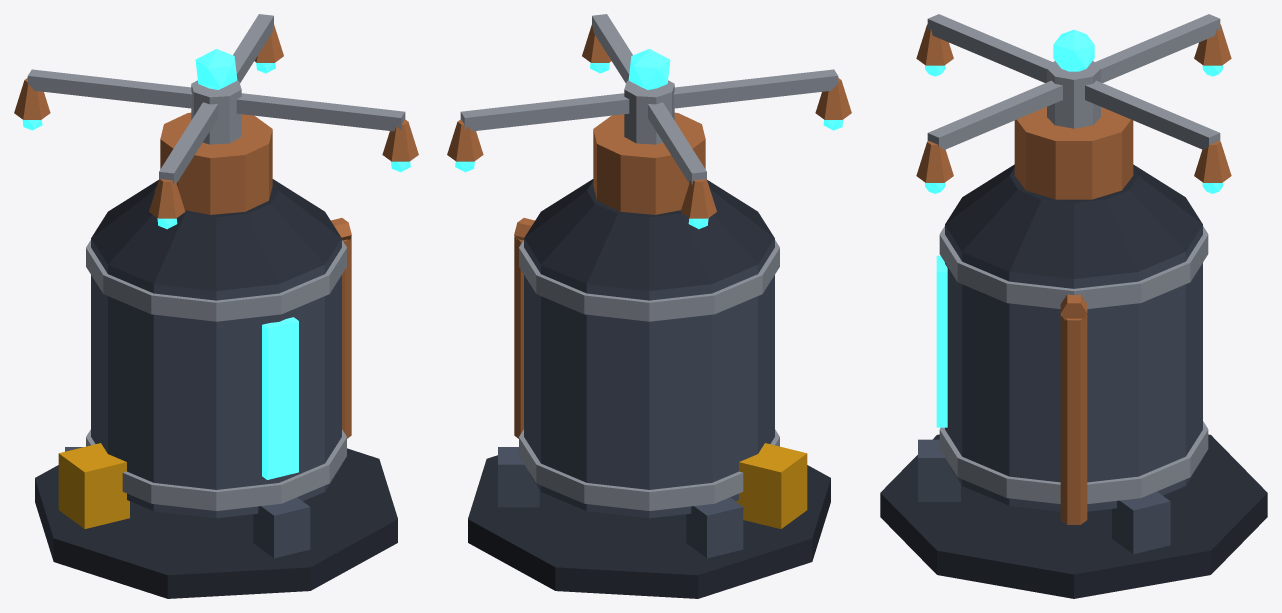
Rendered from auto_waterer.glb.
The picture shows the model from 3 angles, left to right: view 1: azimuth 30°, elevation 25°; view 2: azimuth 150°, elevation 25°; view 3: azimuth 270°, elevation 25°; orthographic projection. The views are drawn at different scales.
Visible parts, largest first — view 1: auto_waterer; view 2: auto_waterer; view 3: auto_waterer.
Part boxes in pixels (x1,y1,x2,y2): auto_waterer: (14,14,418,598); auto_waterer: (447,14,851,598); auto_waterer: (880,14,1267,598).
Bounding box in the file's own units: 0.72 × 1 × 0.72.
